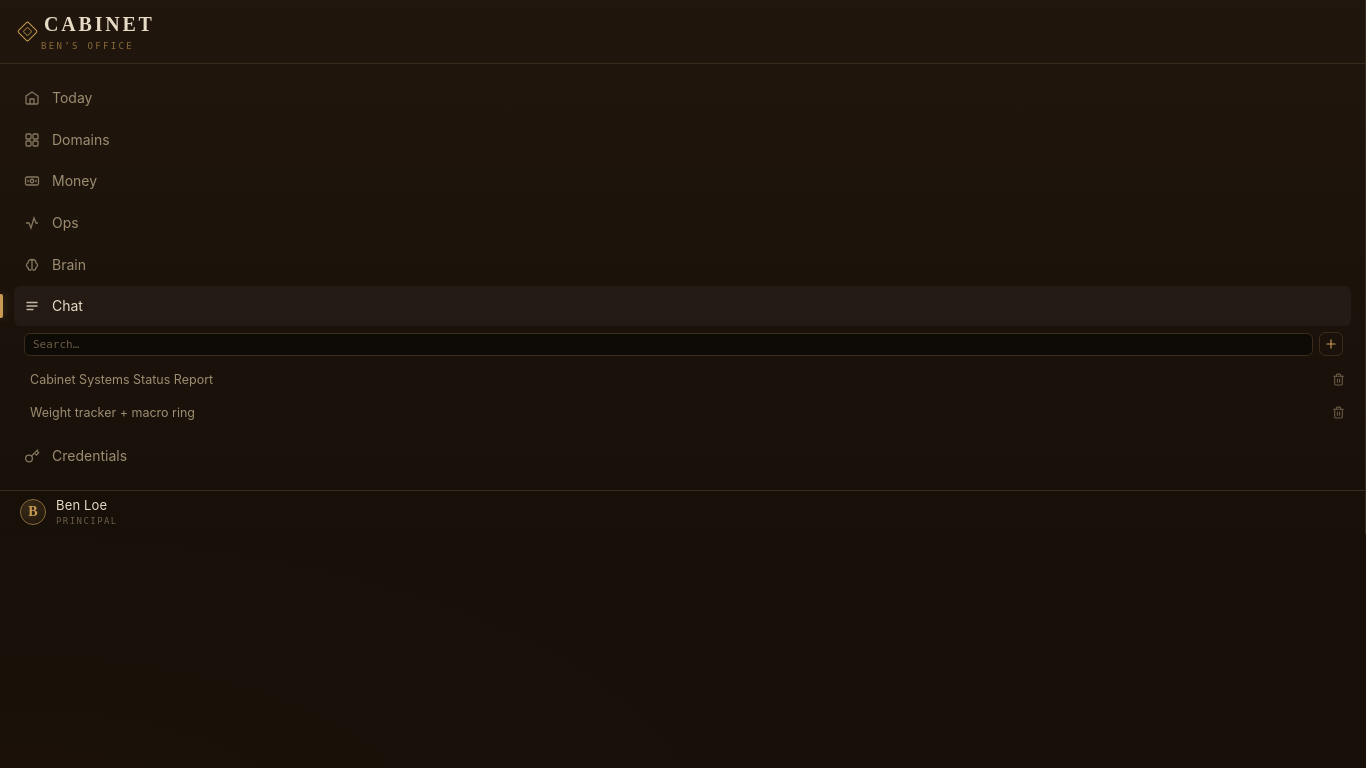
rail Chat accordion › a failed delete shows an error and leaves the dialog open to retry
The width and height of the screenshot is (1366, 768).
Click the button named "Delete “Cabinet Systems Status Report”".
click(1338, 380)  # box [1327,369,1349,391]
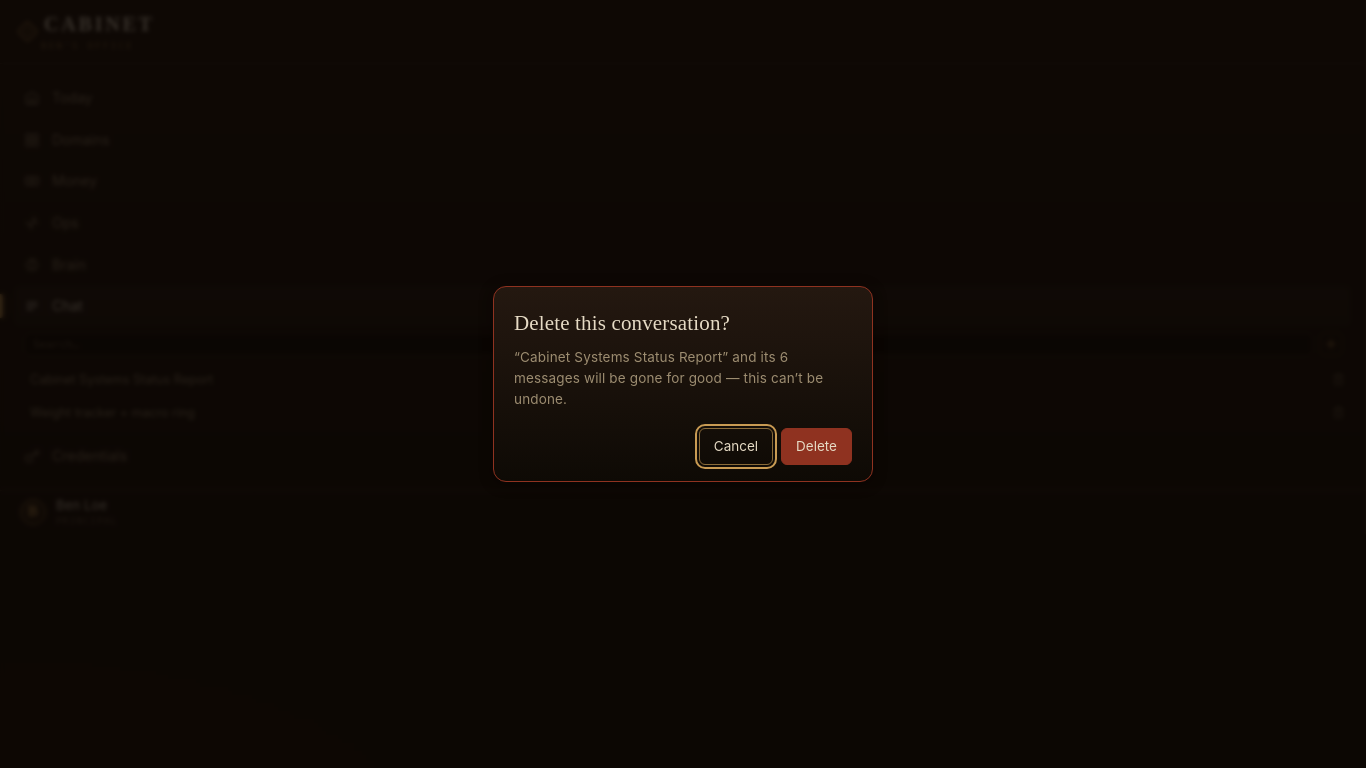
Click the button "Delete".
click(817, 447)  # box [781,428,852,465]
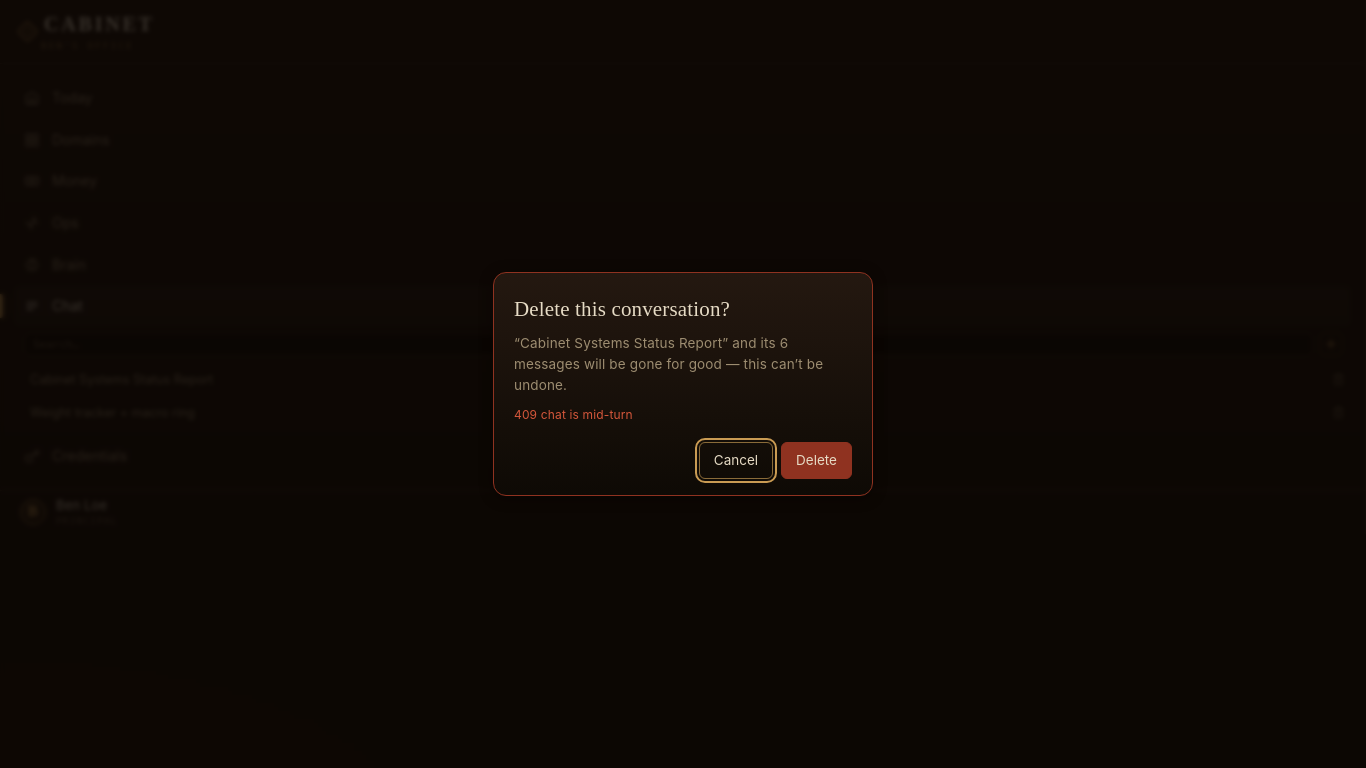
Expected: the dialog is shown
Expected: the text "409 chat is mid-turn" is shown, [514,407,633,422]
